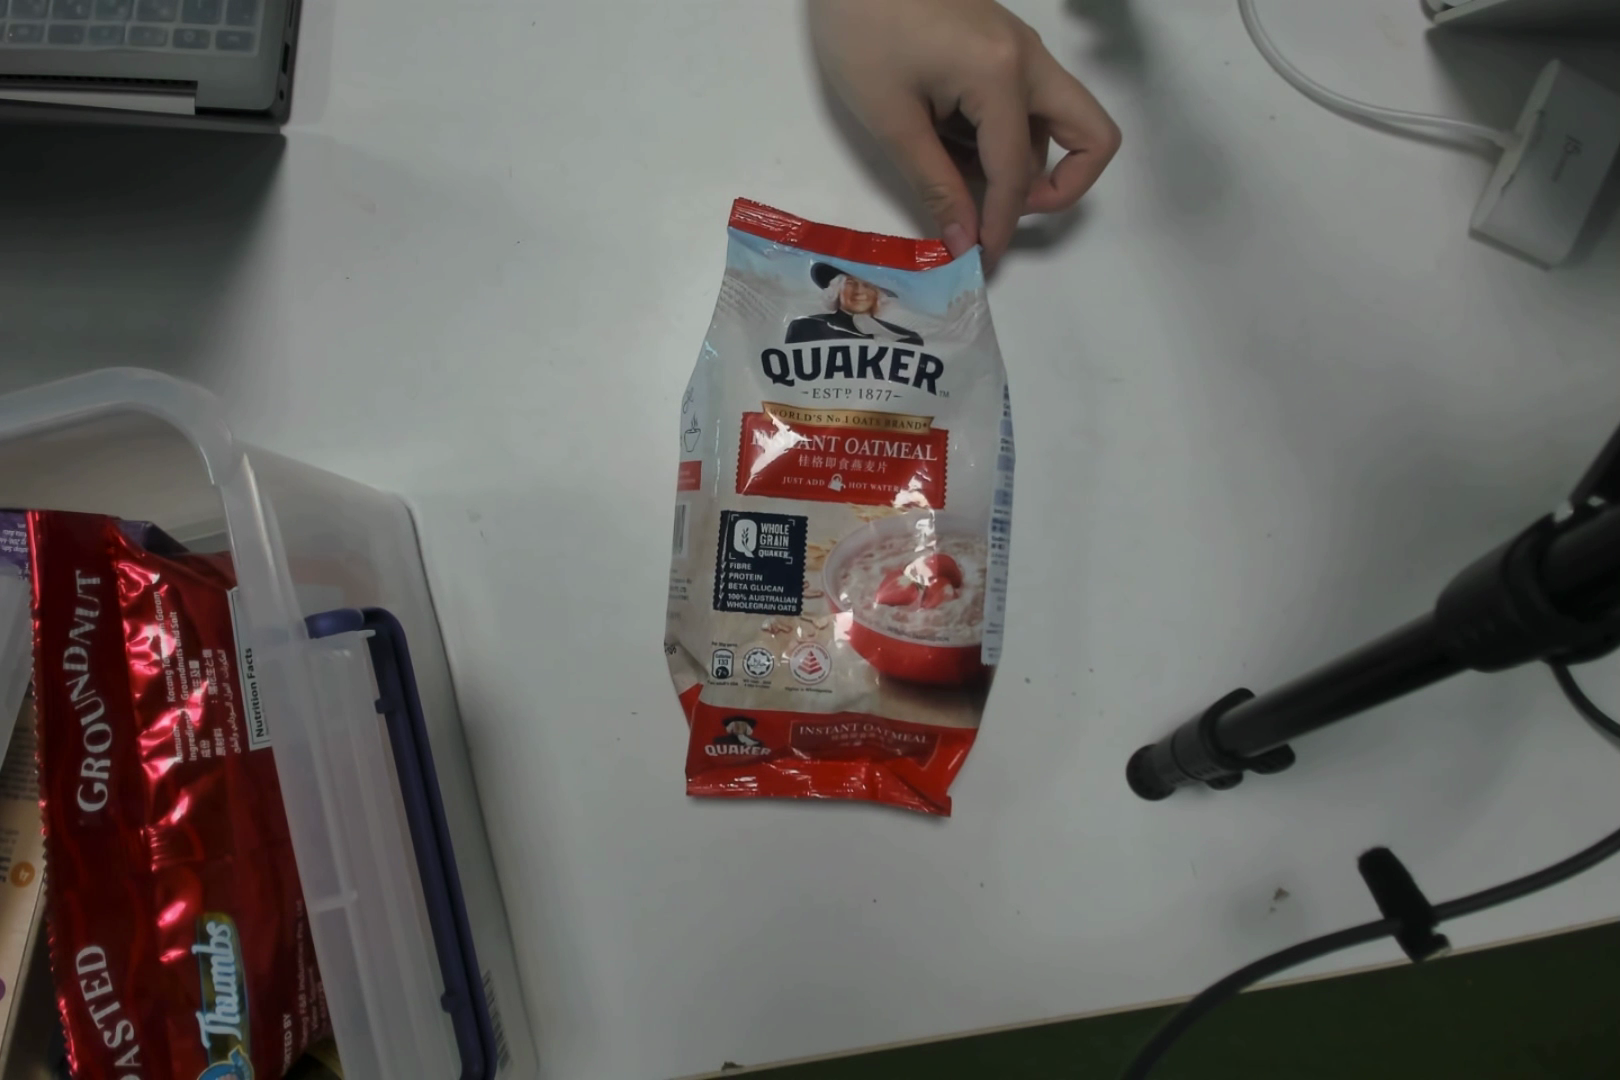RolledOatsInstantOatmeal_400-499g_Halal_Healthy: (667, 237, 1041, 820)
